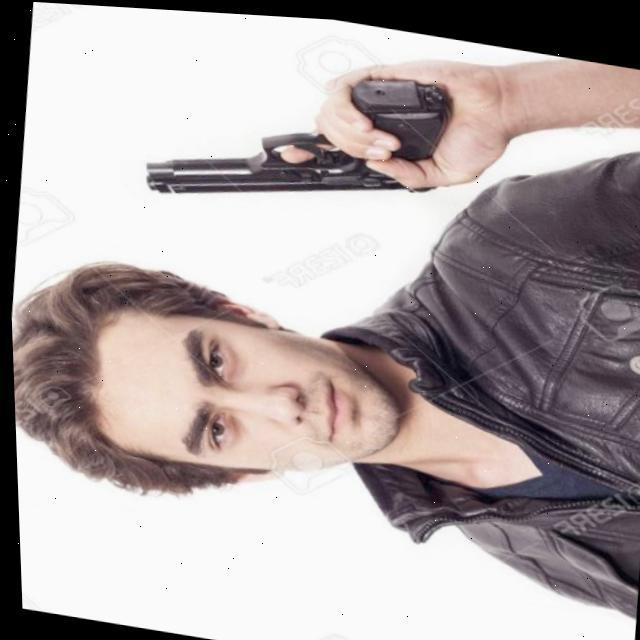gun: (134, 32, 452, 250)
